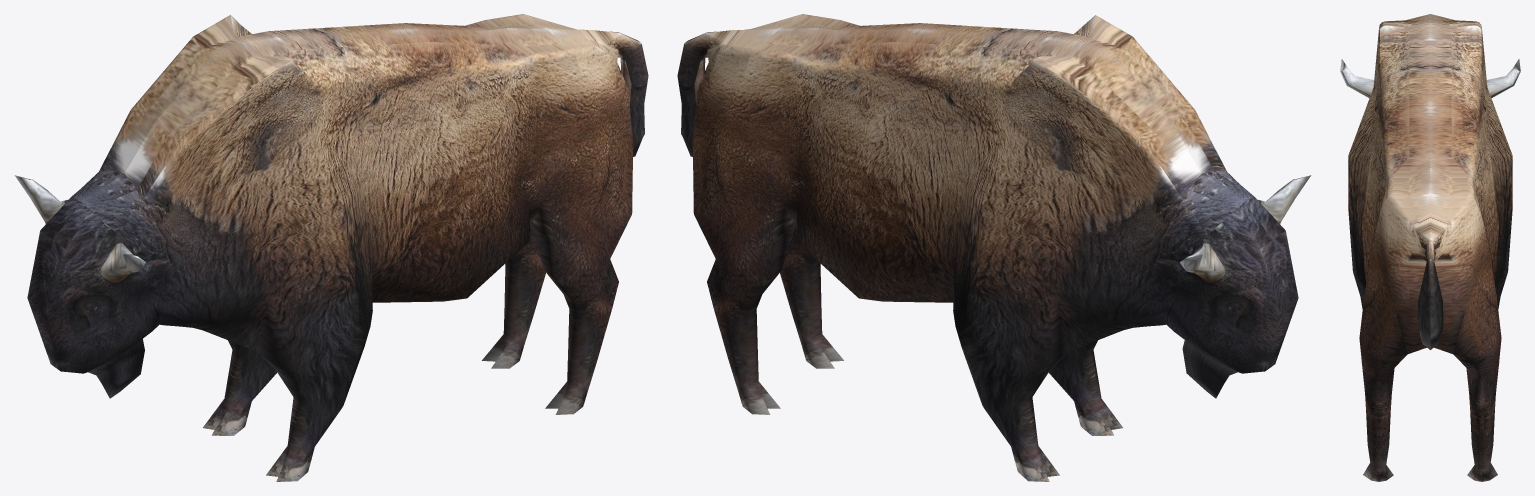
The model's file is bizon.fbx.
3 renders of one model, left to right at view 1: azimuth 30°, elevation 25°; view 2: azimuth 150°, elevation 25°; view 3: azimuth 270°, elevation 25°, orthographic. The views are drawn at different scales.
Visible parts, largest first — view 1: bison; view 2: bison; view 3: bison.
Boxes of the visible parts, x1,y1,x2,y2 form: bison: (14,14,648,481); bison: (677,14,1311,481); bison: (1340,14,1520,481).
Bounding box in the file's own units: 320 × 209 × 100.
1 material, 1 textured.
